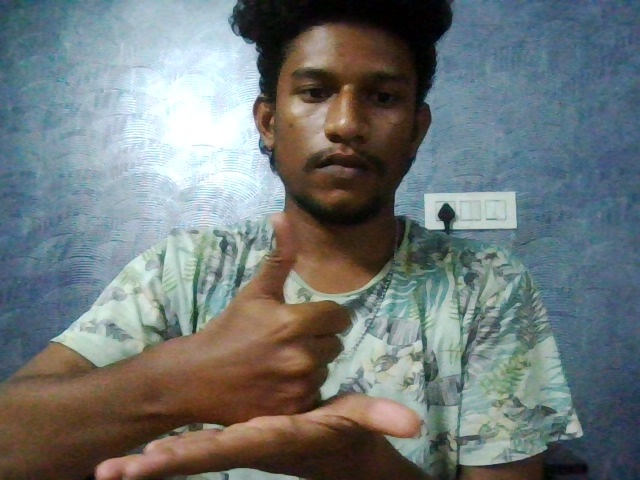help: (54, 194, 476, 477)
